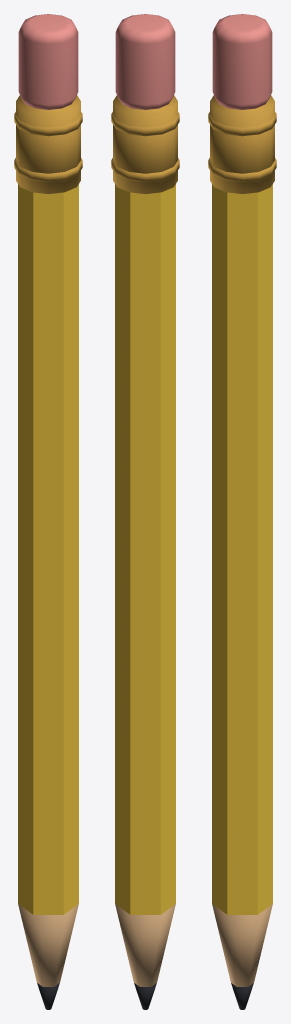
Rendered from RmPencil.fbx.
3 views of the same model, side by side, from view 1: azimuth 90°, elevation 25°; view 2: azimuth 210°, elevation 25°; view 3: azimuth 270°, elevation 25° (orthographic).
Visible parts, largest first — view 1: RmPencilBody; view 2: RmPencilBody; view 3: RmPencilBody.
Part boxes in pixels (x1=…): RmPencilBody: x1=14, y1=14, x2=82, y2=1009; RmPencilBody: x1=111, y1=14, x2=179, y2=1009; RmPencilBody: x1=208, y1=14, x2=276, y2=1009.
Size of the model in its own units: 0.0094 by 0.15 by 0.0094.
